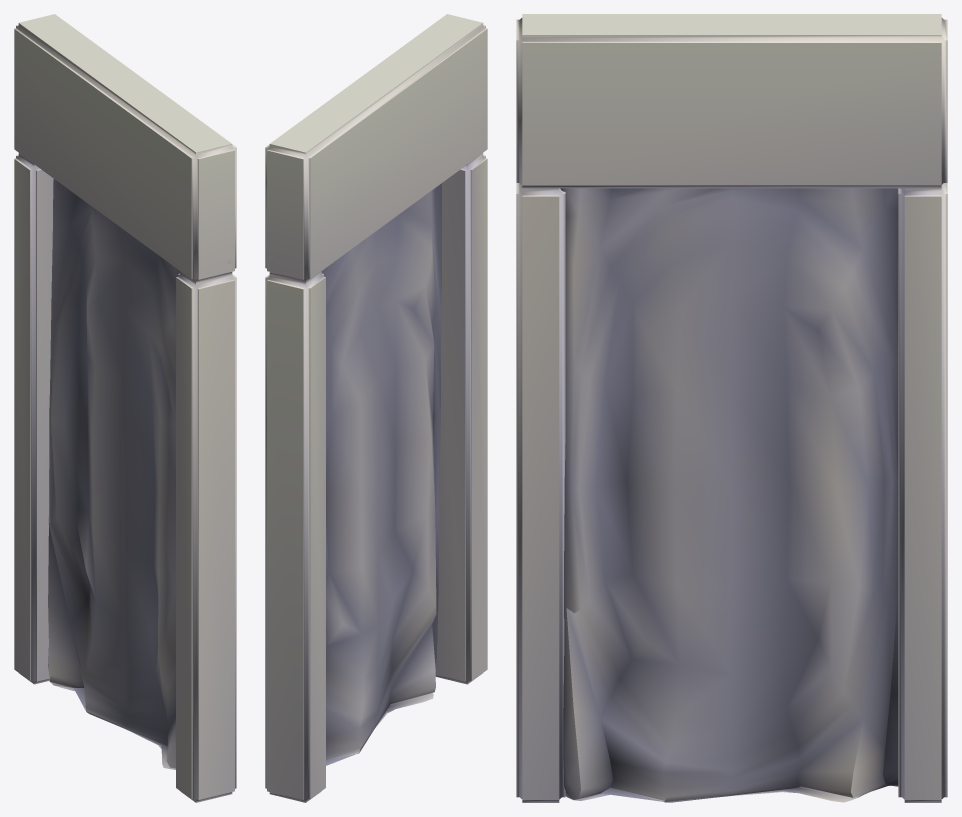
The model's file is curtain-alcove.glb.
The picture shows the model from 3 angles, left to right: view 1: azimuth 30°, elevation 25°; view 2: azimuth 150°, elevation 25°; view 3: azimuth 270°, elevation 25°; orthographic projection. The views are drawn at different scales.
Visible parts, largest first — view 1: body; view 2: body; view 3: body.
Boxes of the visible parts, x1=… form: body: x1=14, y1=14, x2=236, y2=802; body: x1=265, y1=14, x2=487, y2=802; body: x1=516, y1=14, x2=947, y2=802.
Size of the model in its own units: 0.2173 by 2.75 by 1.4.
